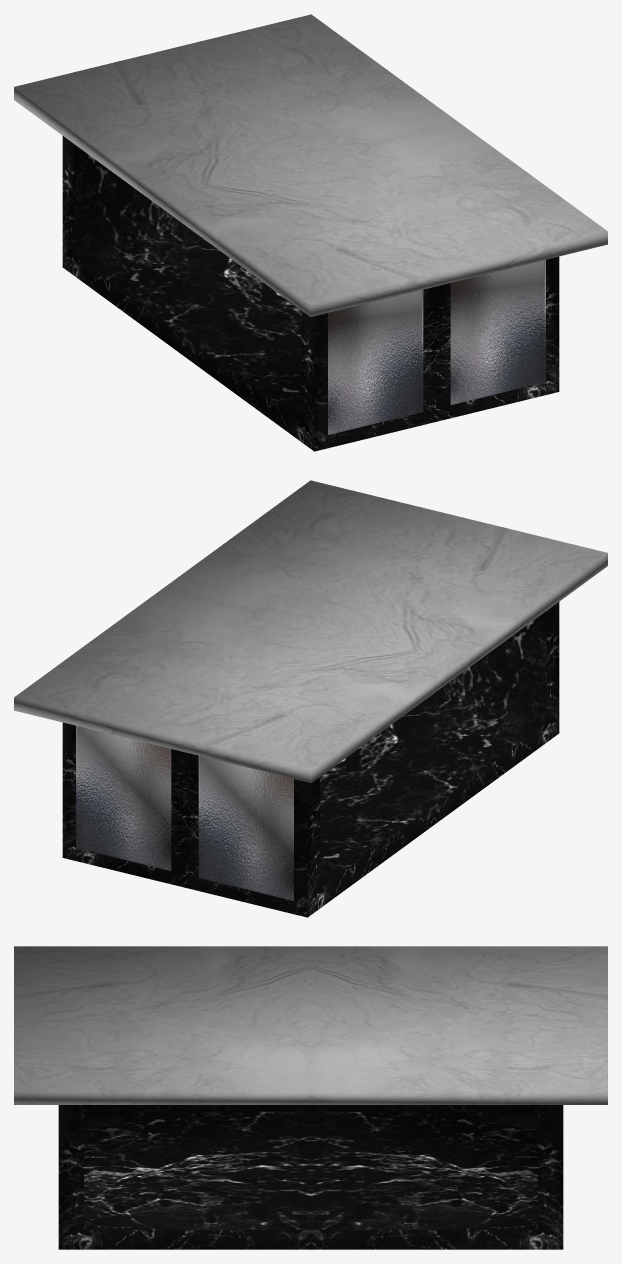
File: 試場桌子.FBX
The picture shows the model from 3 angles, top to bottom: view 1: azimuth 30°, elevation 25°; view 2: azimuth 150°, elevation 25°; view 3: azimuth 270°, elevation 25°; orthographic projection.
Visible parts, largest first — view 1: Box004; view 2: Box004; view 3: Box004.
Part boxes in pixels (x1,y1,x2,y2): Box004: (14,14,607,451); Box004: (14,480,607,917); Box004: (14,946,607,1249).
Size of the model in its own units: 108 by 58.97 by 186.
Materials: 1 (1 with a texture image).
